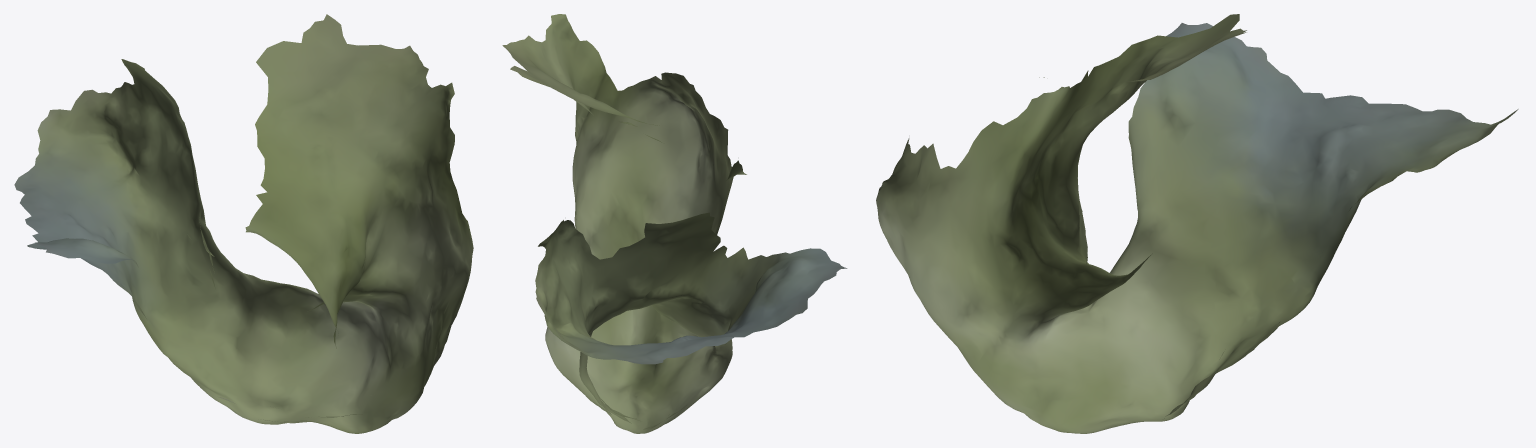
The model's file is LODS_Cloud_global_18.glb.
3 views of the same model, side by side, from view 1: azimuth 30°, elevation 25°; view 2: azimuth 150°, elevation 25°; view 3: azimuth 270°, elevation 25° (orthographic). The views are drawn at different scales.
Visible parts, largest first — view 1: LOD0; view 2: LOD0; view 3: LOD0.
Boxes of the visible parts, x1=… form: LOD0: x1=14, y1=14, x2=473, y2=433; LOD0: x1=502, y1=14, x2=847, y2=433; LOD0: x1=876, y1=14, x2=1518, y2=433.
Size of what is drawn, in the model's own units: 0.3082 by 0.3012 by 0.4048.
